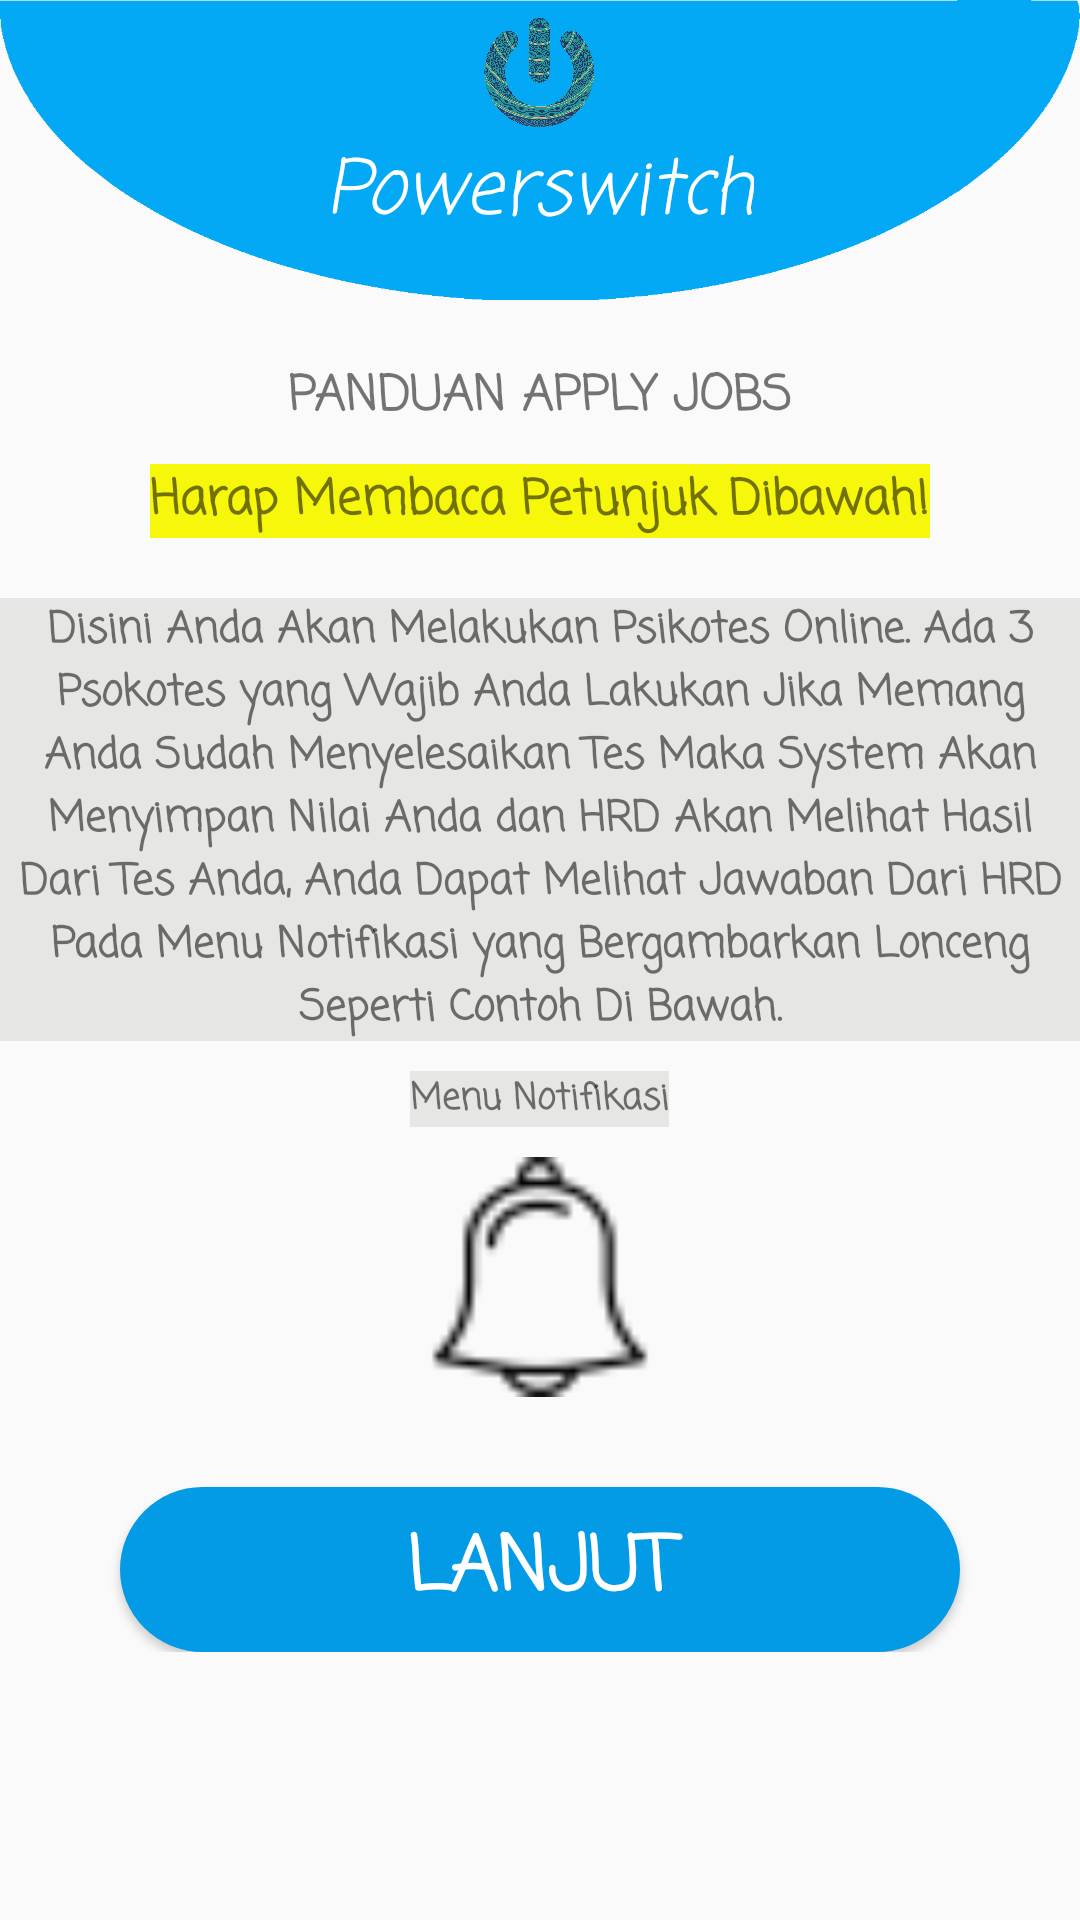

Named icons in this screenshot (1080w x 1920h) and their bounding boxes, box=[x1, y1, x2, y2]:
alarm: box=[432, 1157, 648, 1397]
